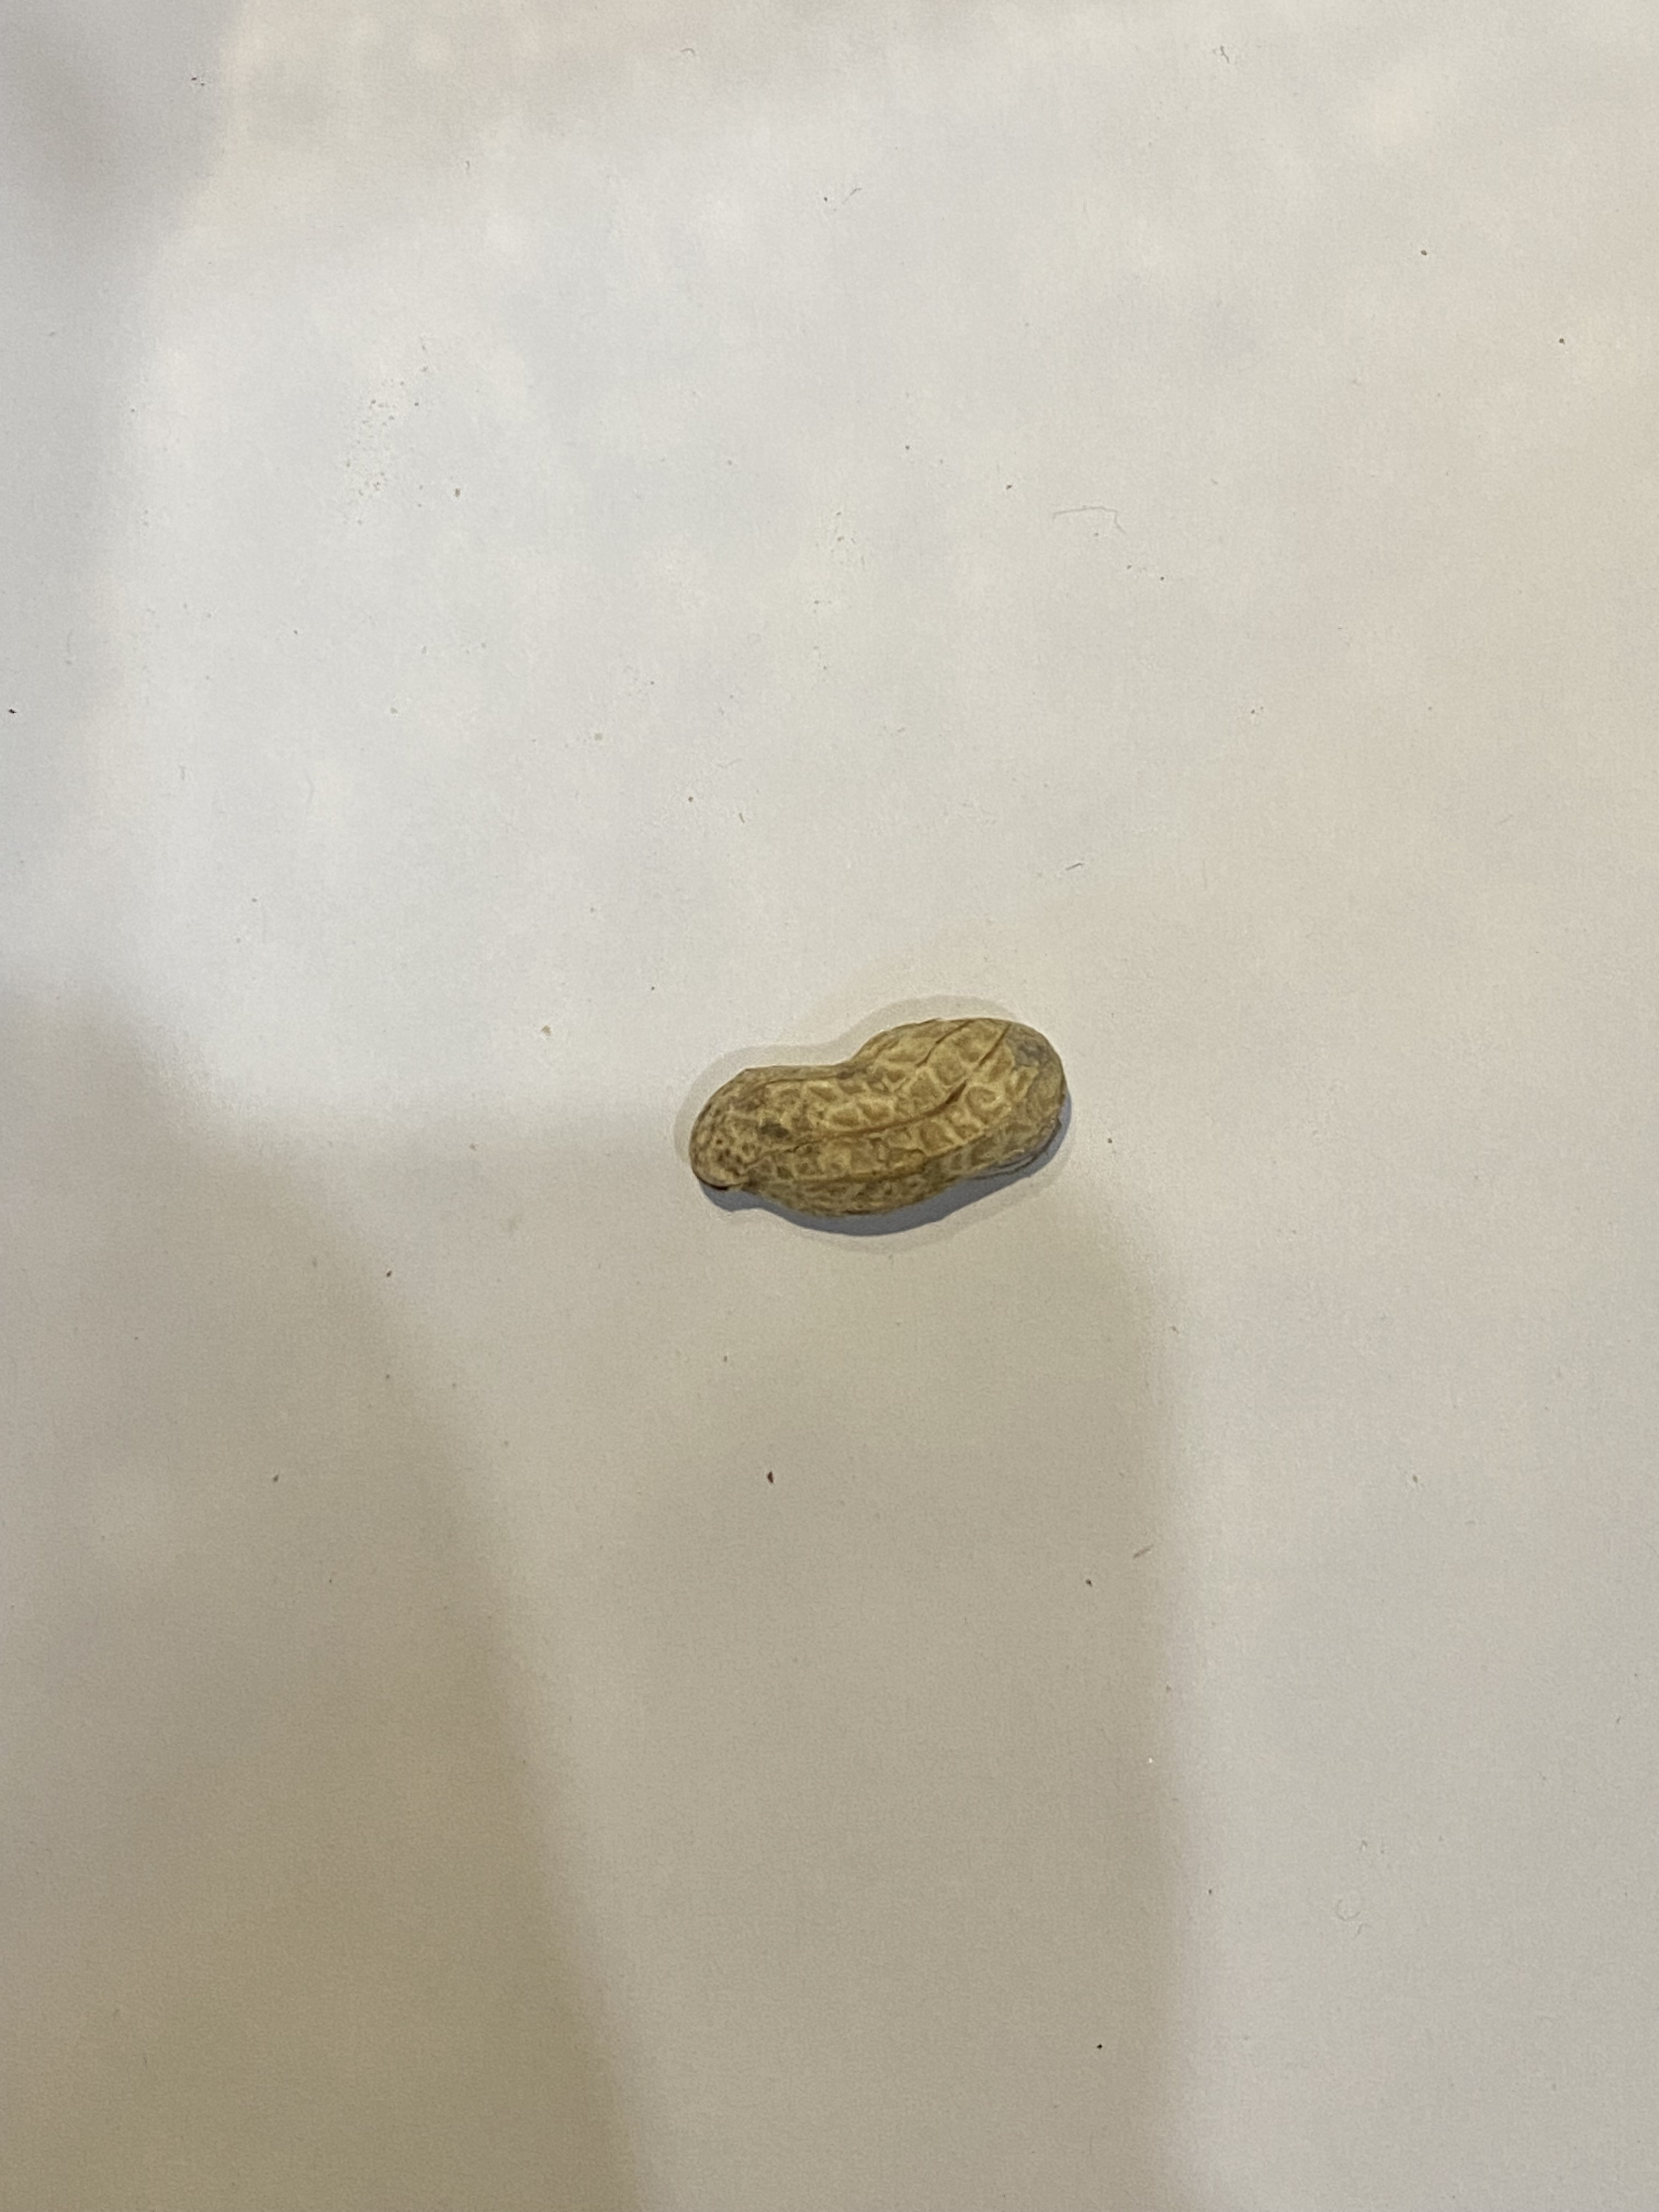kacang2: (687, 1000, 1072, 1233)
